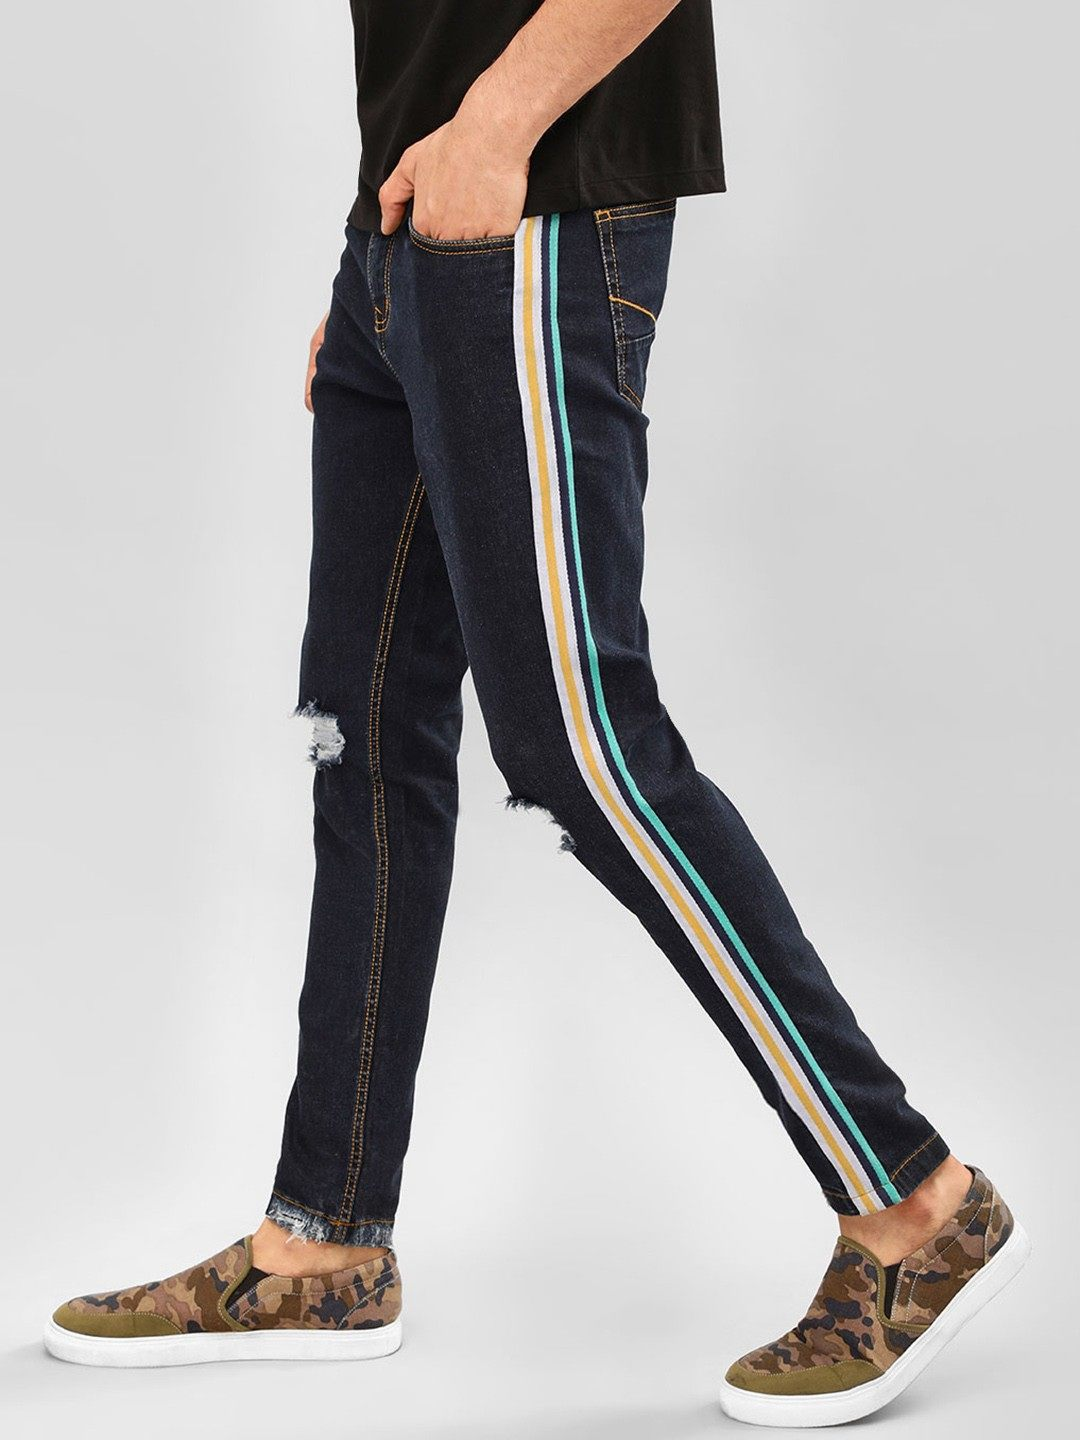jeans: (219, 183, 979, 1240)
